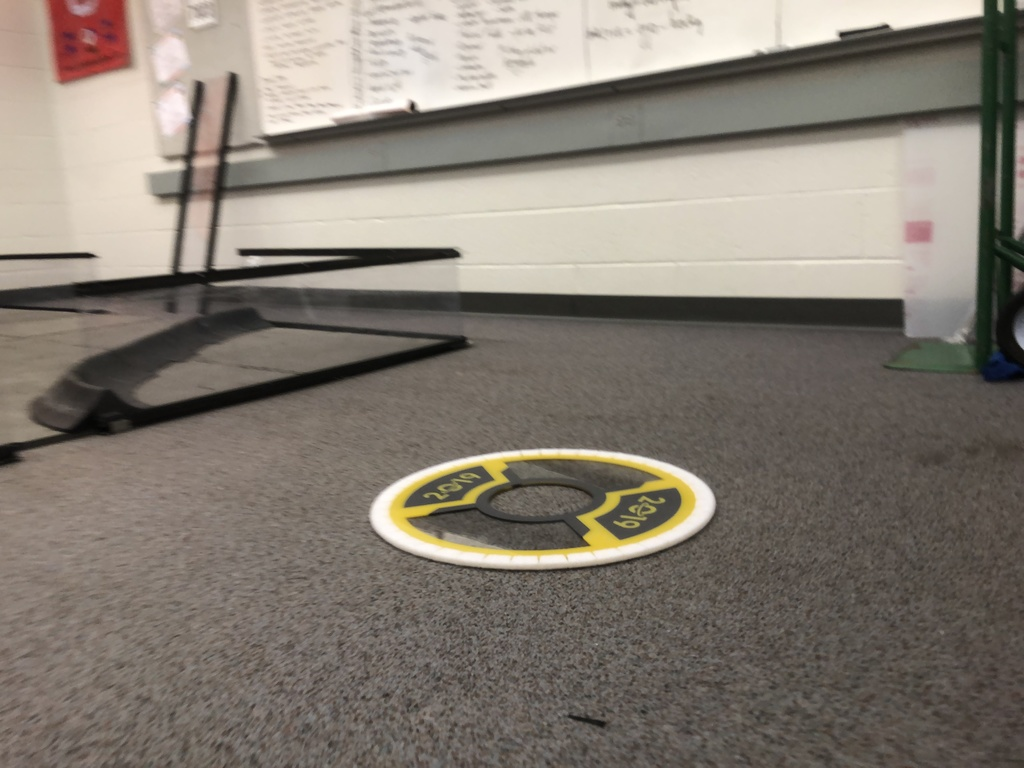hatch_panel: (354, 442, 732, 579)
